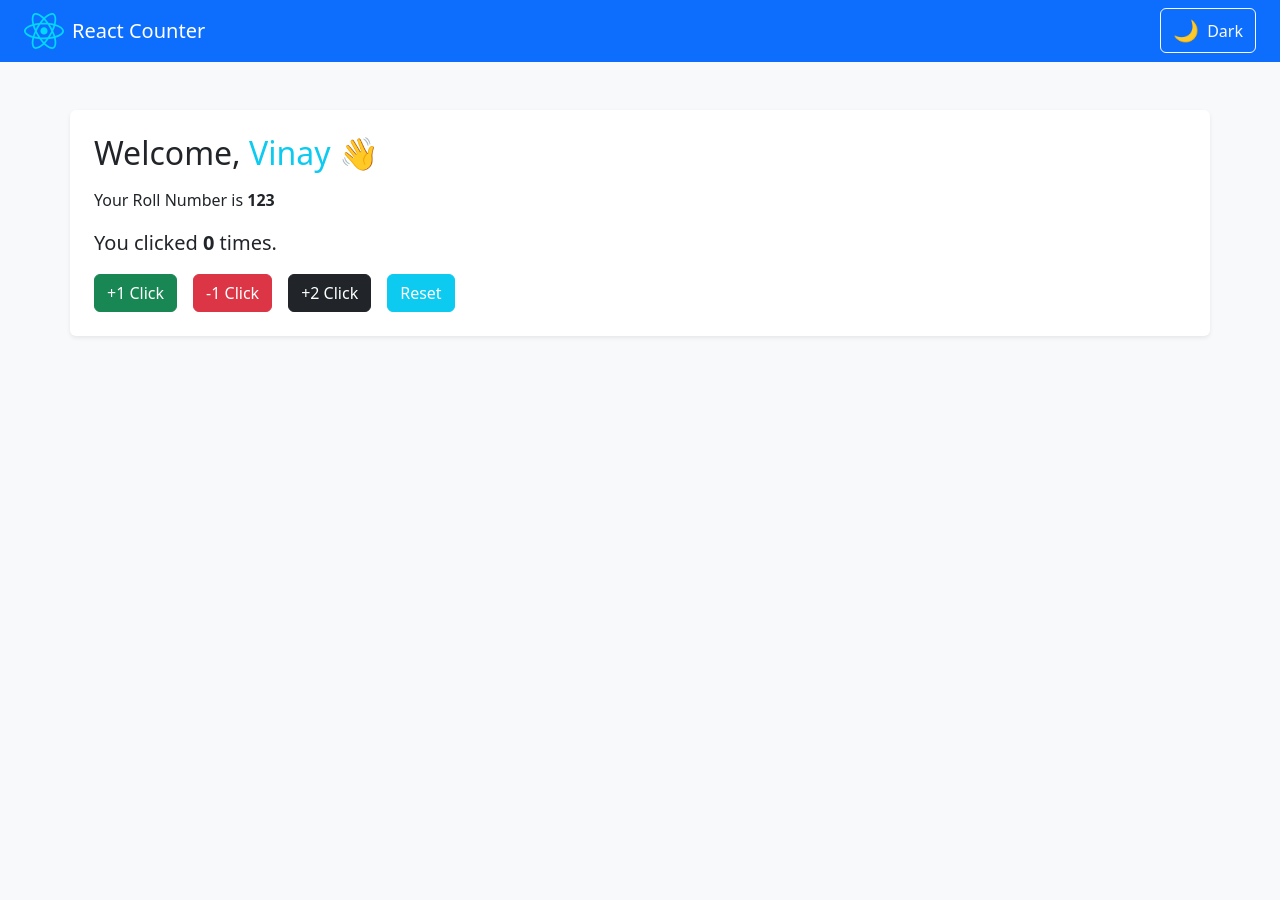
NavBar Component › theme toggle changes icon and text
Note: Click to switch to dark mode
Click the button with test id "theme-toggle". click: [1208, 31]
box: x1=1160 y1=8 x2=1256 y2=53
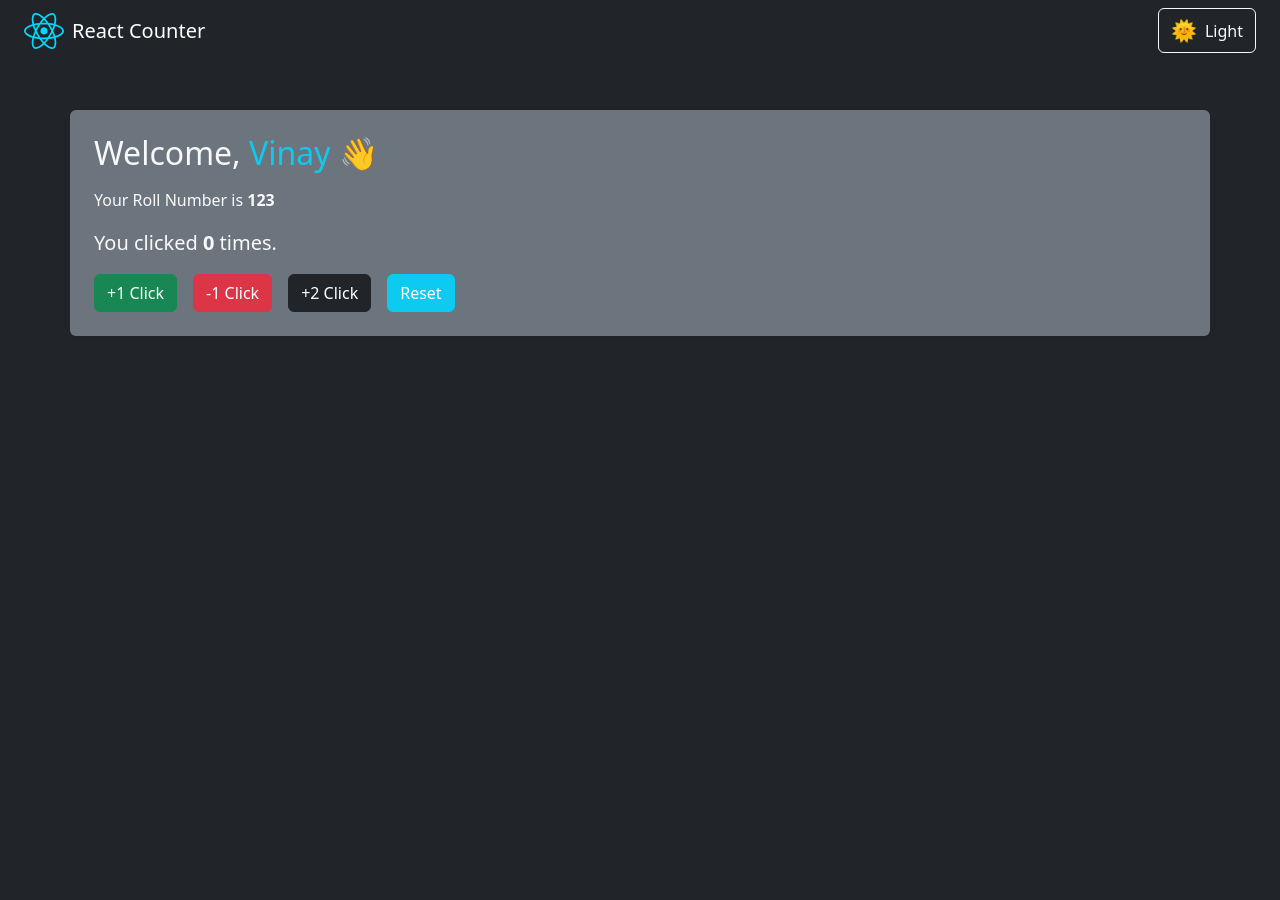
Check: the button with test id "theme-toggle" shows "🌞", box x1=1158 y1=8 x2=1256 y2=53
Check: the button with test id "theme-toggle" shows "Light", box x1=1158 y1=8 x2=1256 y2=53
